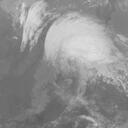cyclone: (40, 15, 117, 80)
